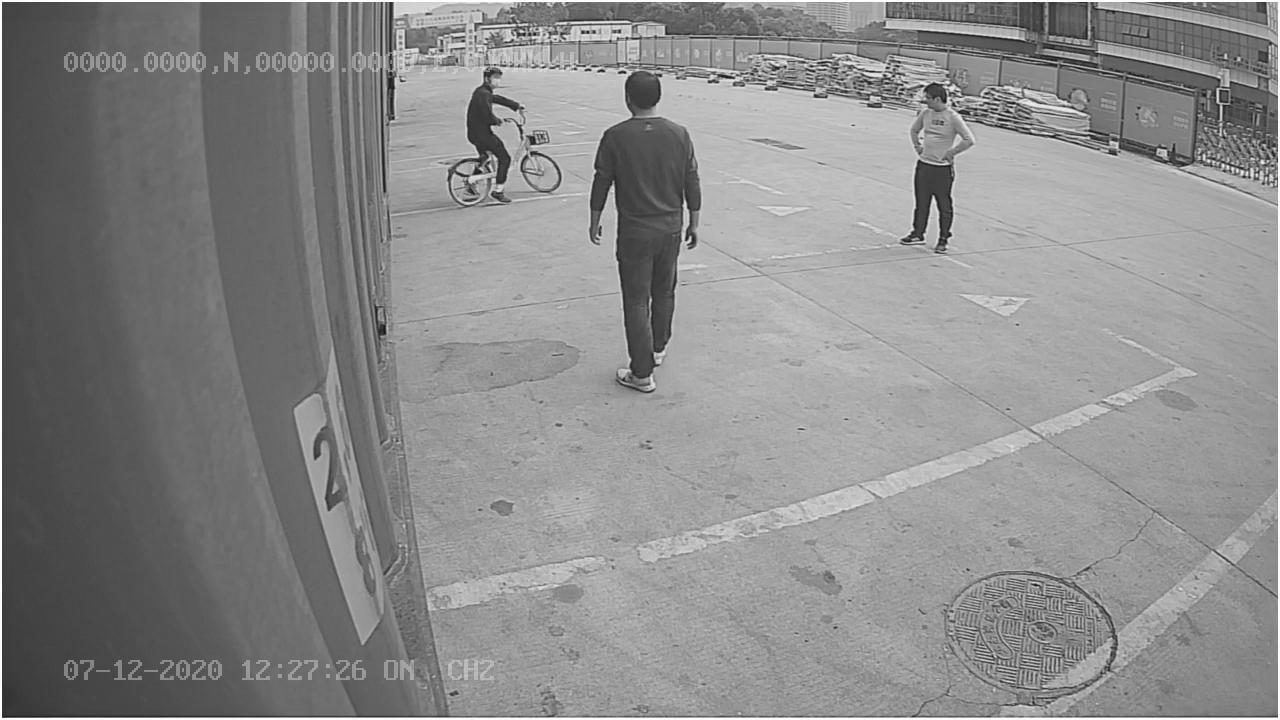person: (583, 67, 707, 391)
